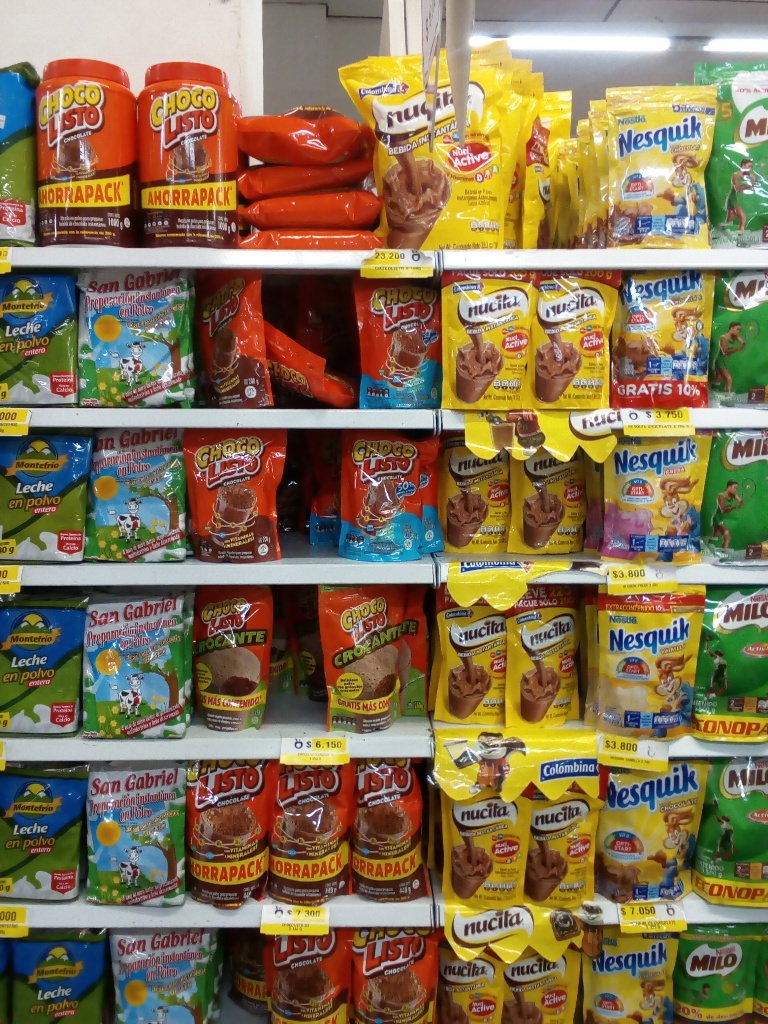COL0170103DYP44000: (182, 758, 272, 907)
COL0170103TRR00100: (33, 55, 134, 246)
COL0170104DYP20000: (348, 264, 444, 416)
COL0170203DYP50000: (699, 756, 768, 910)
COL0170205DYP50000: (692, 51, 766, 240)
COL0170303DYP20000: (597, 81, 712, 251)
